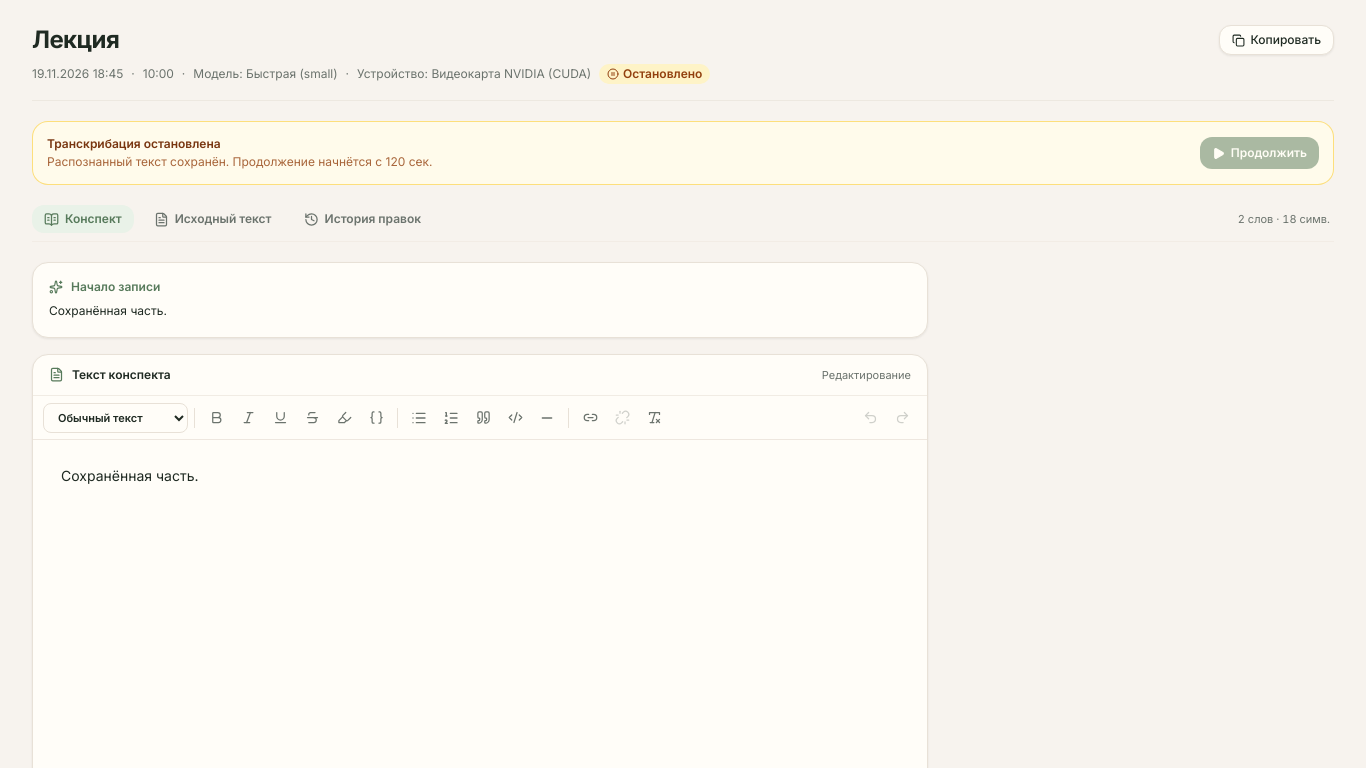
Test: WorkspaceNote › restores a saved text revision
Later steps or results of the test are not shown.
Click the button "История правок" at (362, 219), box [292, 205, 433, 233]
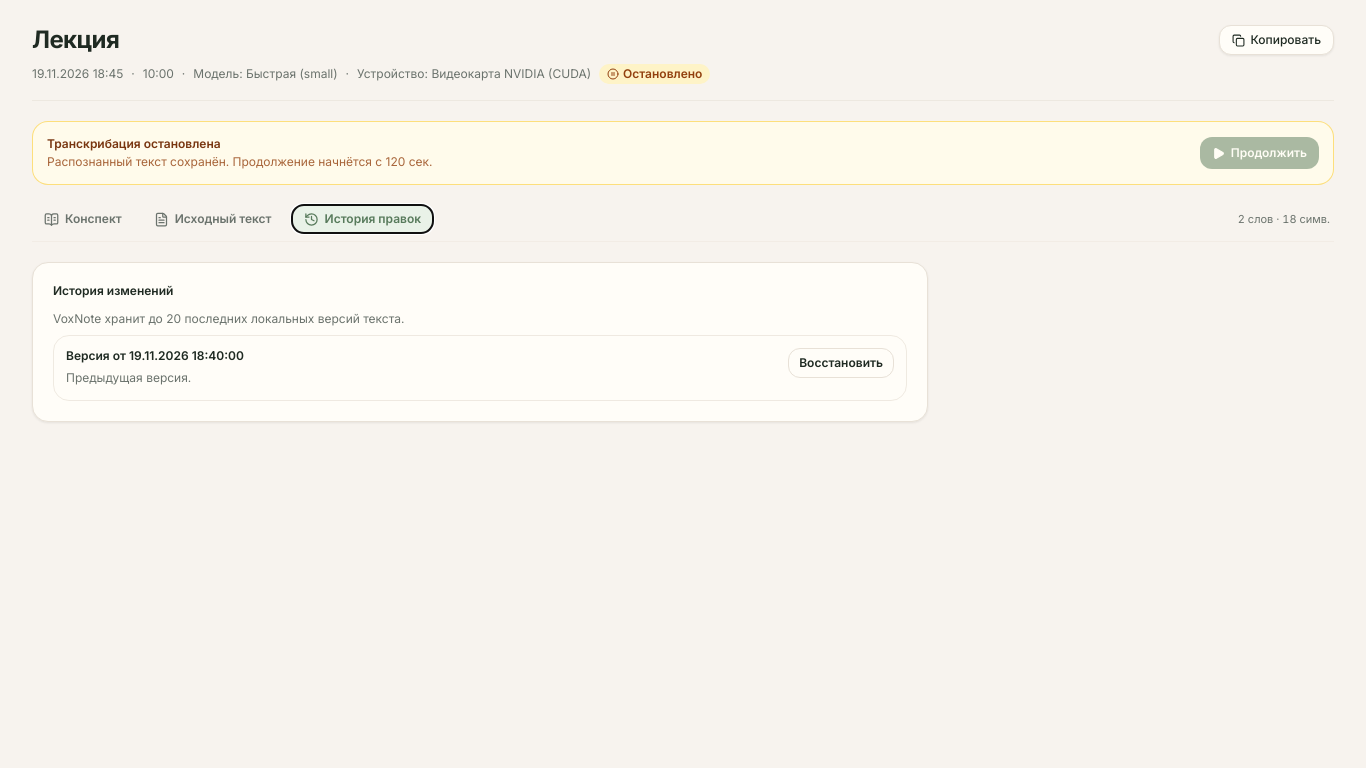
expect the text "Предыдущая версия." is shown: met, box [66, 370, 191, 385]
